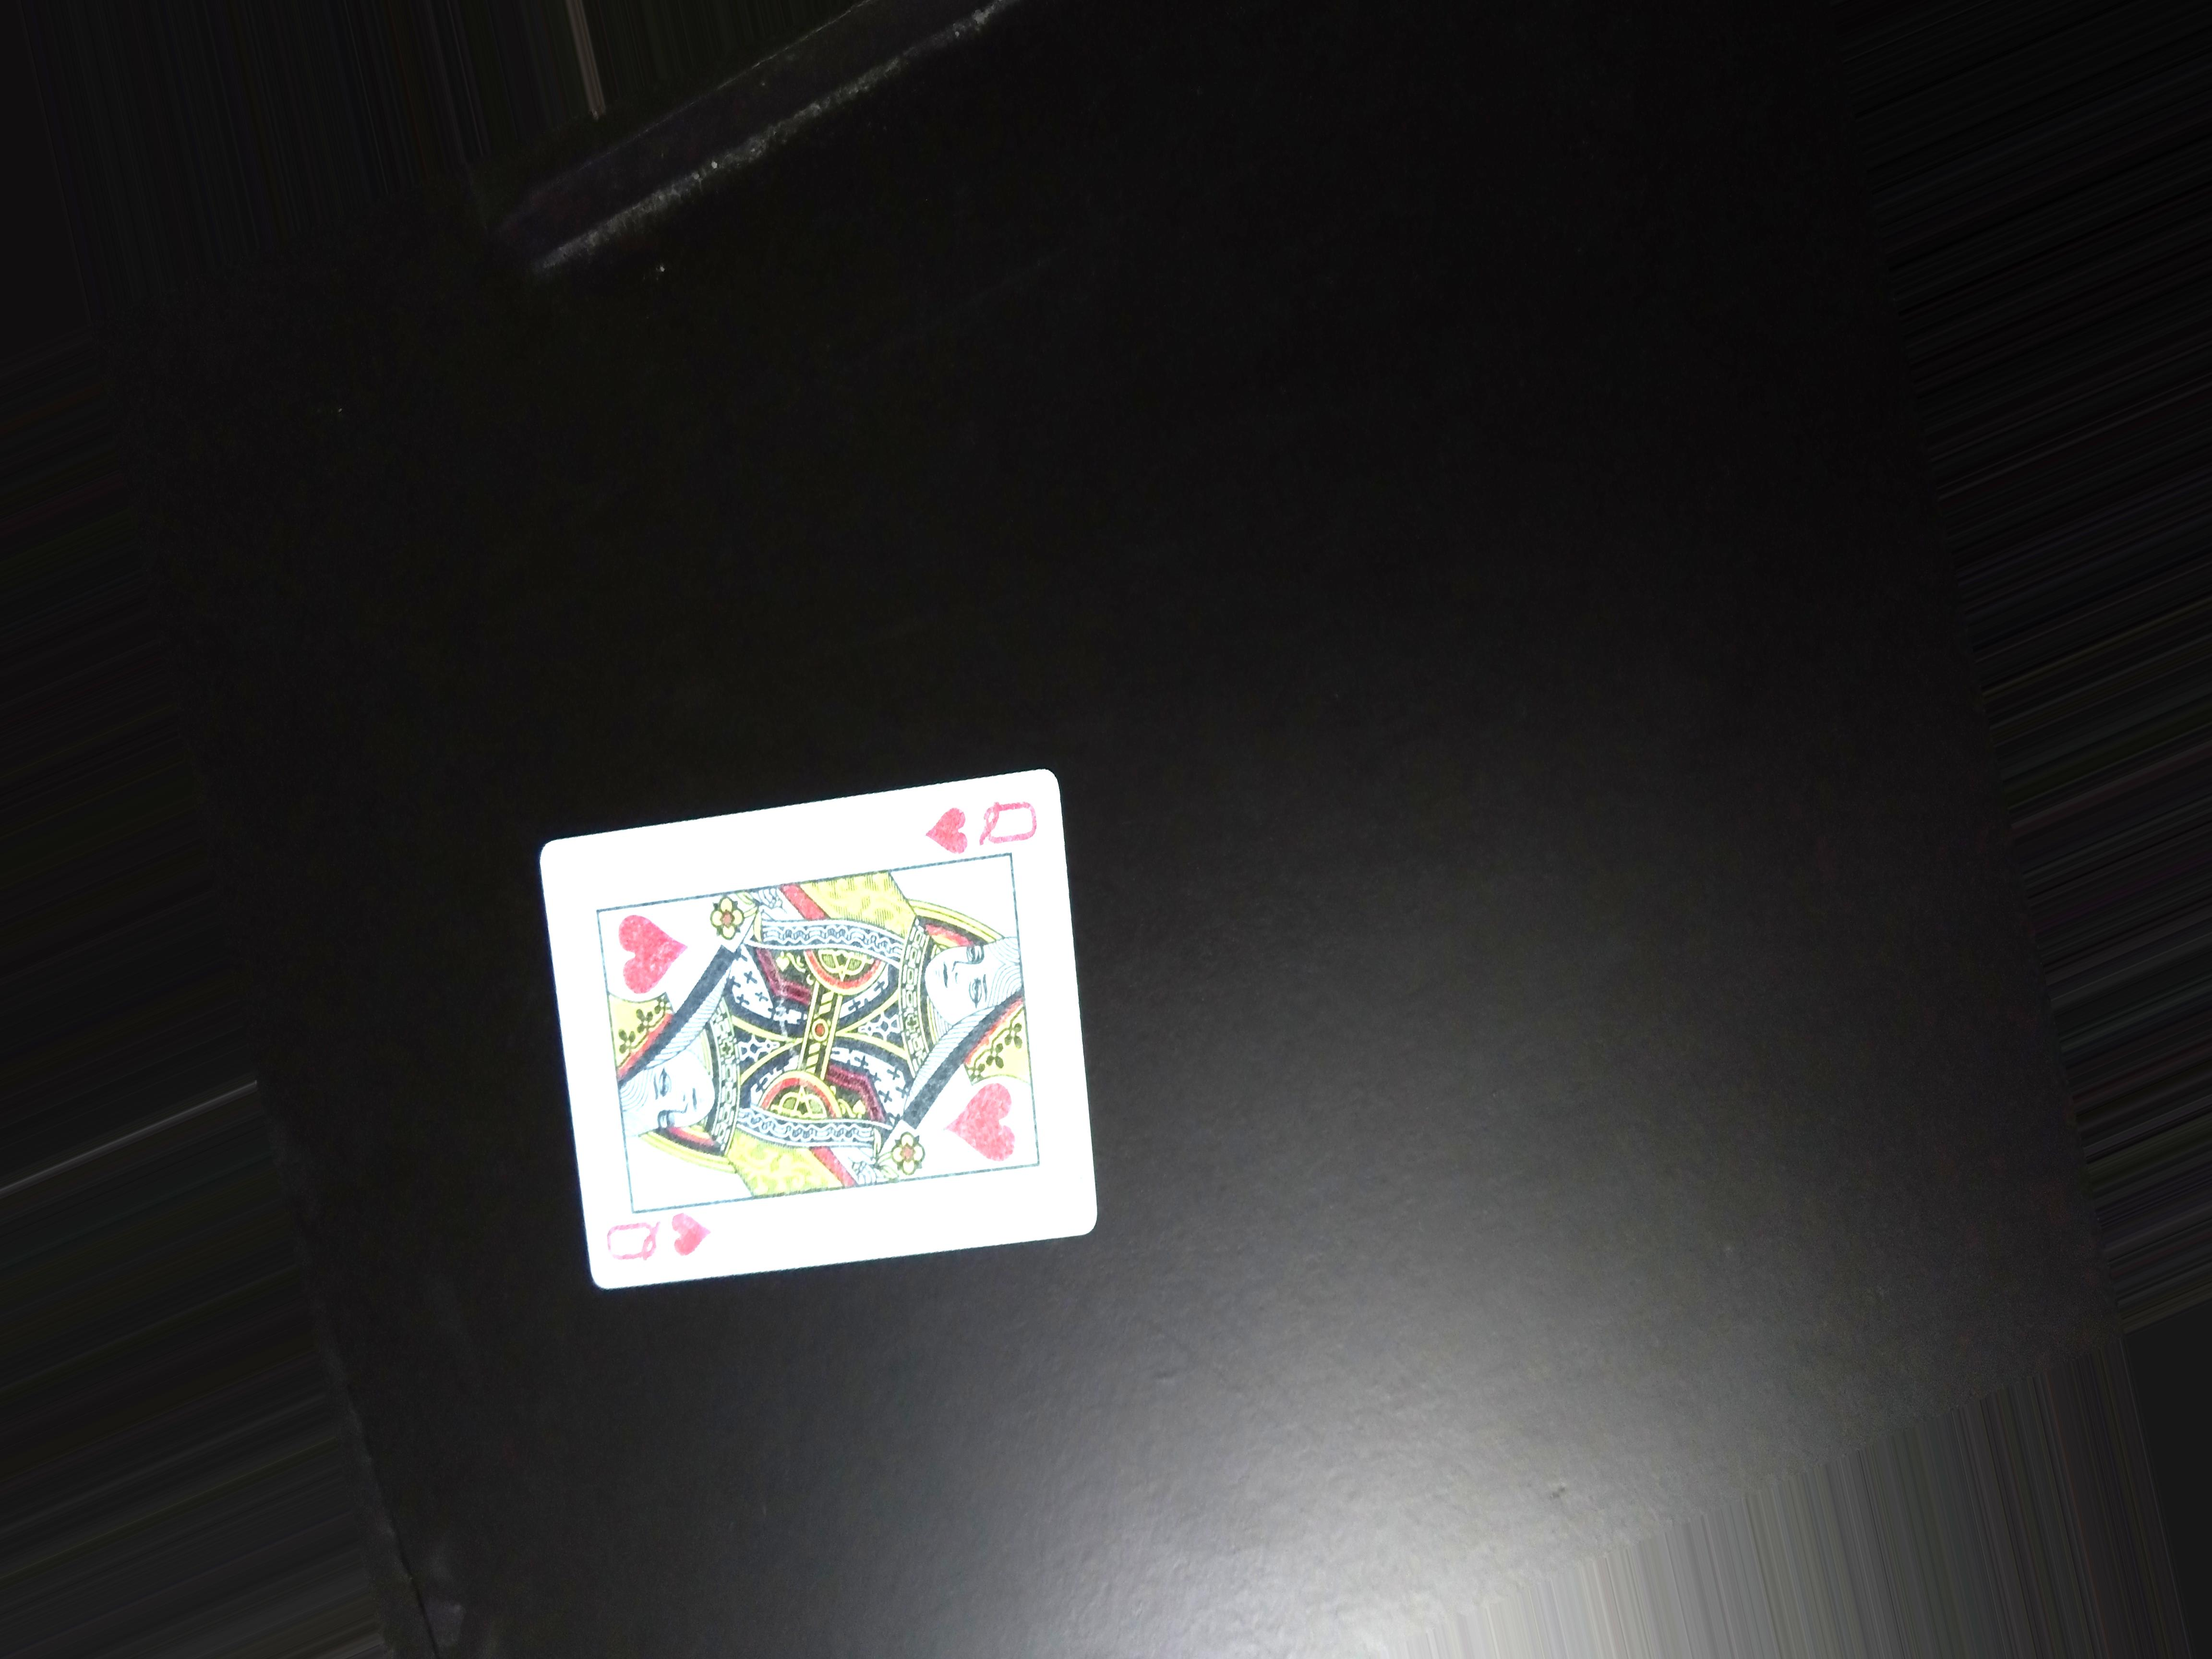QH: (904, 793, 1052, 857)
